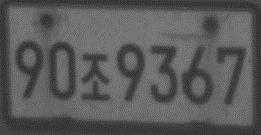0: (48, 40, 76, 101)
3: (148, 44, 179, 104)
6: (181, 43, 214, 105)
7: (215, 45, 247, 106)
9: (114, 42, 146, 103), (14, 39, 44, 99)
조: (79, 52, 111, 102)
